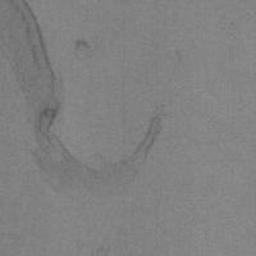Water spot: (0, 0, 164, 206), (73, 36, 95, 63)
